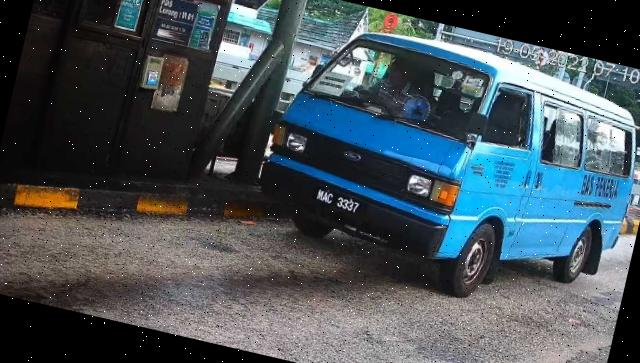License_Plate: (311, 185, 366, 222)
van: (244, 9, 640, 330)
